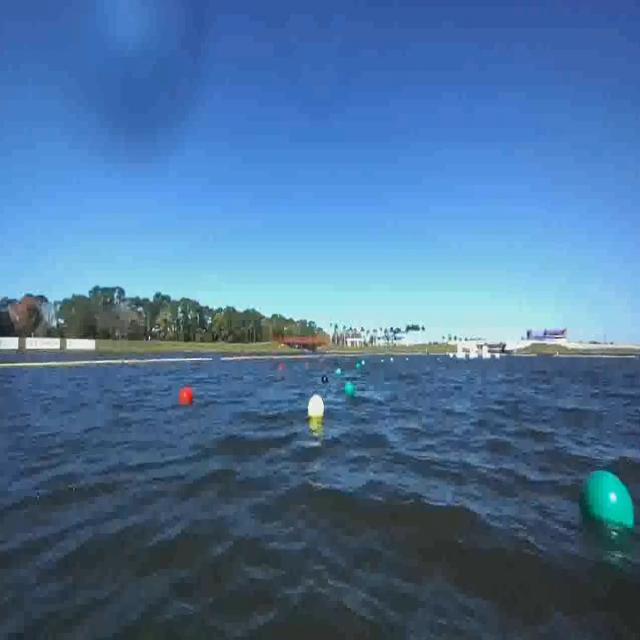black-buoy: (322, 376, 328, 386)
green-buoy: (576, 468, 637, 534), (346, 382, 356, 397)
red-buoy: (182, 384, 196, 404)
yellow-buoy: (307, 397, 323, 421)
